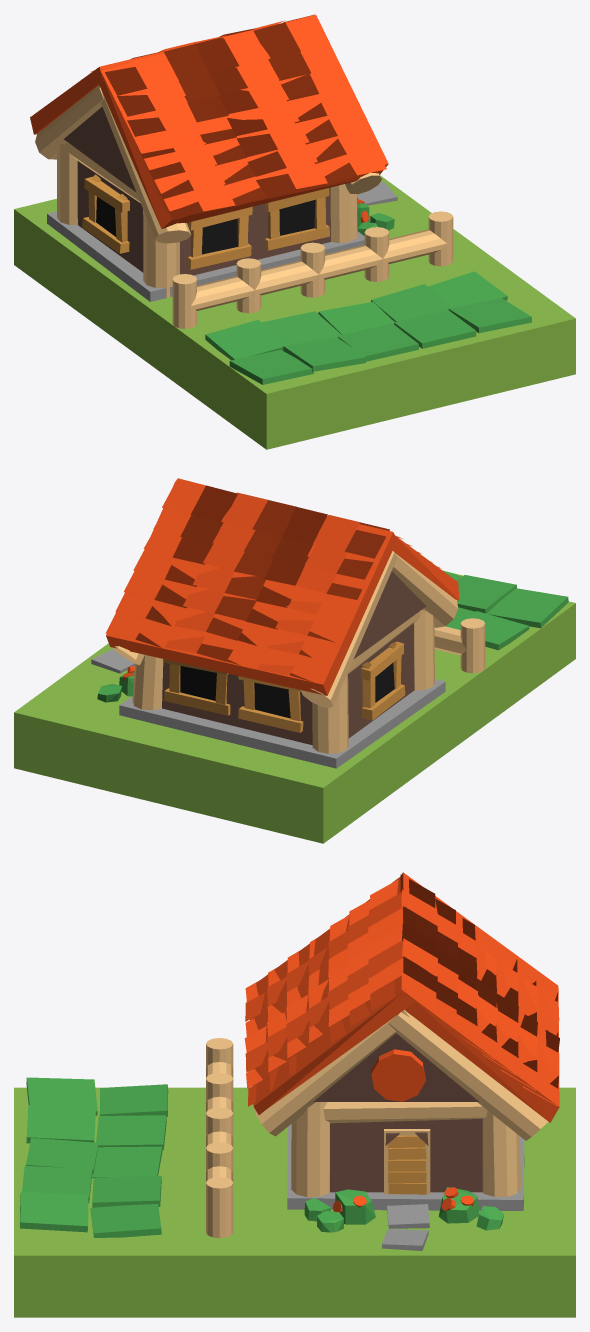
The model's file is Cottage.glb.
The picture shows the model from 3 angles, top to bottom: view 1: azimuth 30°, elevation 25°; view 2: azimuth 150°, elevation 25°; view 3: azimuth 270°, elevation 25°; orthographic projection. The views are drawn at different scales.
Parts seen in each view (by area): view 1: group1769886284, group1440960139, group2030849318, group2107001692, group437253234, group2040113188, group562589785, group645257370, group85594941, group519899598, group1058334306, group1239863924 (+8 smaller); view 2: group1769886284, group1256277270, group1439883092, group645257370, group562589785, group437253234, group349142655, group1951732885, group1058334306, group1239863924, group2107001692, group875120527 (+8 smaller); view 3: group1769886284, group1440960139, group1256277270, group437253234, group2040113188, group1439883092, group1262782521, group562589785, group2030849318, group2107001692, group1239863924, group982896380 (+9 smaller).
Part boxes in pixels (box(x1,y1,x2,y2)): group1769886284: box(14, 175, 575, 449); group1440960139: box(105, 15, 386, 220); group2030849318: box(99, 15, 388, 228); group2107001692: box(172, 211, 453, 328); group437253234: box(229, 298, 531, 384); group2040113188: box(205, 271, 507, 360); group562589785: box(77, 161, 330, 275); group645257370: box(47, 211, 364, 301); group85594941: box(264, 188, 329, 250); group519899598: box(187, 206, 252, 269); group1058334306: box(82, 174, 129, 253); group1239863924: box(64, 107, 135, 191); group1769886284: box(14, 571, 575, 843); group1256277270: box(105, 478, 389, 683); group1439883092: box(106, 481, 396, 695); group645257370: box(119, 679, 445, 768); group562589785: box(162, 623, 414, 745); group437253234: box(442, 570, 568, 628); group349142655: box(238, 676, 303, 732); group1951732885: box(164, 659, 230, 715); group1058334306: box(361, 641, 405, 720); group1239863924: box(353, 571, 426, 659); group2107001692: box(434, 618, 485, 673); group875120527: box(312, 673, 348, 753); group1769886284: box(14, 1087, 575, 1317); group1440960139: box(244, 879, 405, 1106); group1256277270: box(400, 874, 559, 1106); group437253234: box(20, 1077, 98, 1232); group2040113188: box(90, 1084, 168, 1237); group1439883092: box(400, 872, 559, 1122); group1262782521: box(253, 1010, 548, 1140); group562589785: box(330, 1119, 482, 1192); group2030849318: box(250, 877, 414, 1114); group2107001692: box(206, 1038, 233, 1238); group1239863924: box(313, 1011, 478, 1101); group982896380: box(291, 1102, 329, 1197).
Size of the model in its own units: 0.291 by 0.2293 by 0.41.
